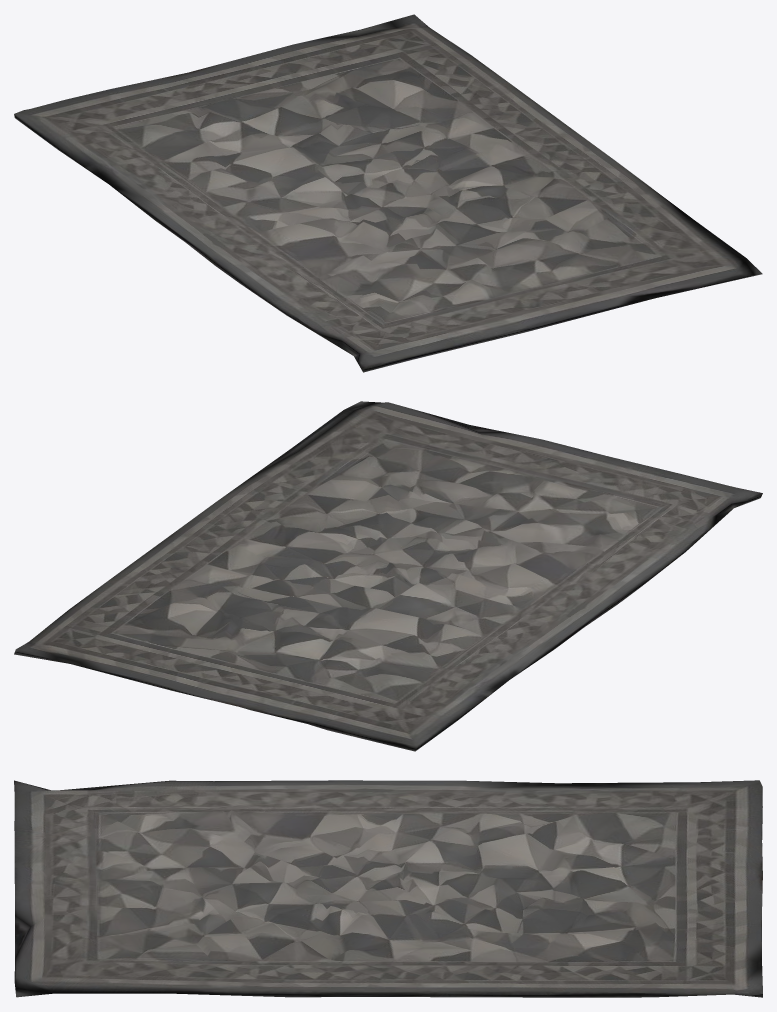
The model's file is rug_patterned.glb.
The picture shows the model from 3 angles, top to bottom: view 1: azimuth 30°, elevation 25°; view 2: azimuth 150°, elevation 25°; view 3: azimuth 270°, elevation 25°; orthographic projection. The views are drawn at different scales.
Parts seen in each view (by area): view 1: tripo_node_3f755d67-e86f-457b-b6cf-95d8f80da0a7; view 2: tripo_node_3f755d67-e86f-457b-b6cf-95d8f80da0a7; view 3: tripo_node_3f755d67-e86f-457b-b6cf-95d8f80da0a7.
Part boxes in pixels (x1,y1,x2,y2): tripo_node_3f755d67-e86f-457b-b6cf-95d8f80da0a7: [14, 14, 762, 372]; tripo_node_3f755d67-e86f-457b-b6cf-95d8f80da0a7: [14, 401, 762, 751]; tripo_node_3f755d67-e86f-457b-b6cf-95d8f80da0a7: [14, 780, 762, 997].
Bounding box in the file's own units: 0.6693 × 0.0264 × 1.
Materials: 1 (1 with a texture image).
